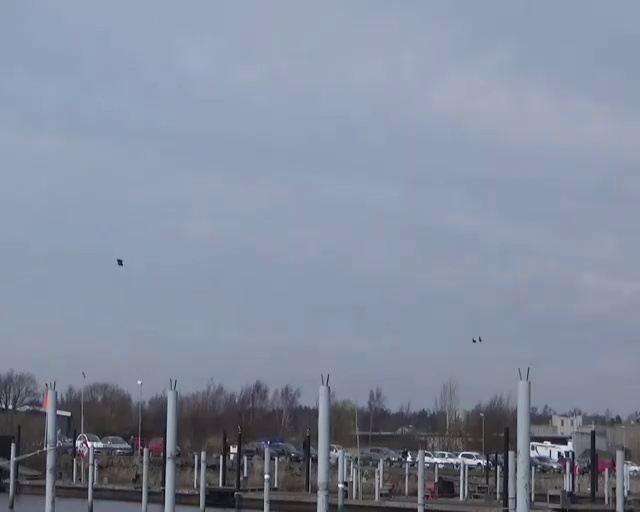BIRD: (472, 335, 482, 343)
